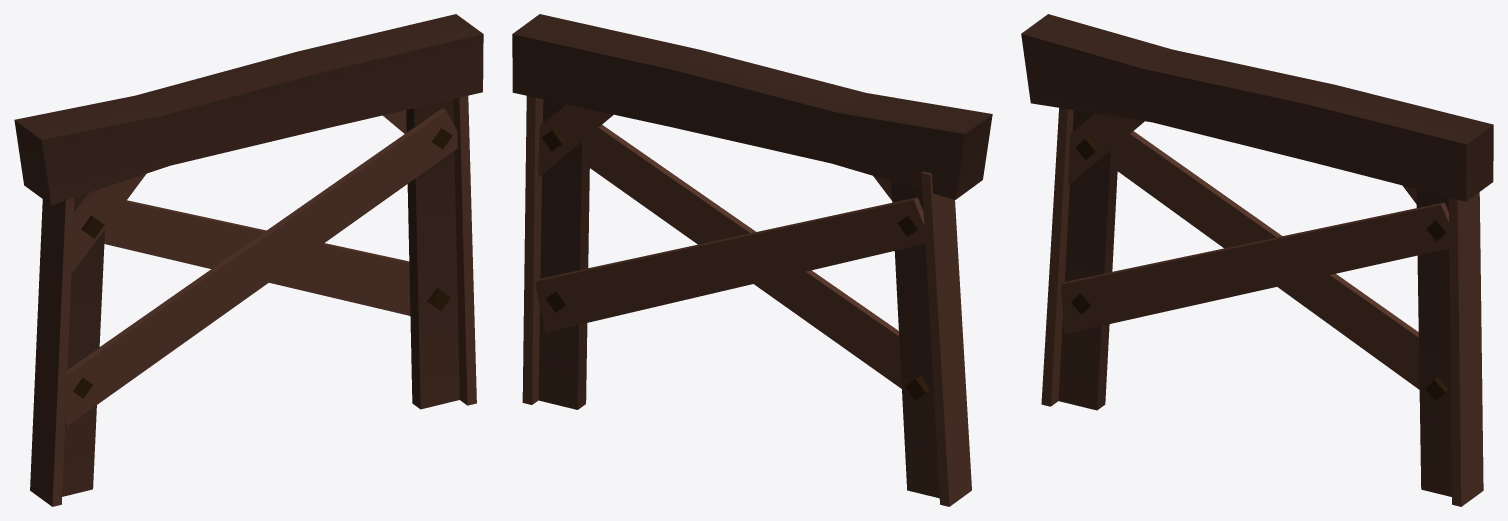
The model's file is Beam Interior 2.glb.
3 views of the same model, side by side, from view 1: azimuth 30°, elevation 25°; view 2: azimuth 150°, elevation 25°; view 3: azimuth 330°, elevation 25° (orthographic).
Parts seen in each view (by area): view 1: Beam Interior 2; view 2: Beam Interior 2; view 3: Beam Interior 2.
Part boxes in pixels (box(x1,y1,x2,y2)): Beam Interior 2: box(14, 14, 483, 506); Beam Interior 2: box(512, 14, 992, 506); Beam Interior 2: box(1021, 14, 1493, 506).
Size of what is drawn, in the model's own units: 4.02 by 3.23 by 0.4944.
Materials: 1 (1 with a texture image).
